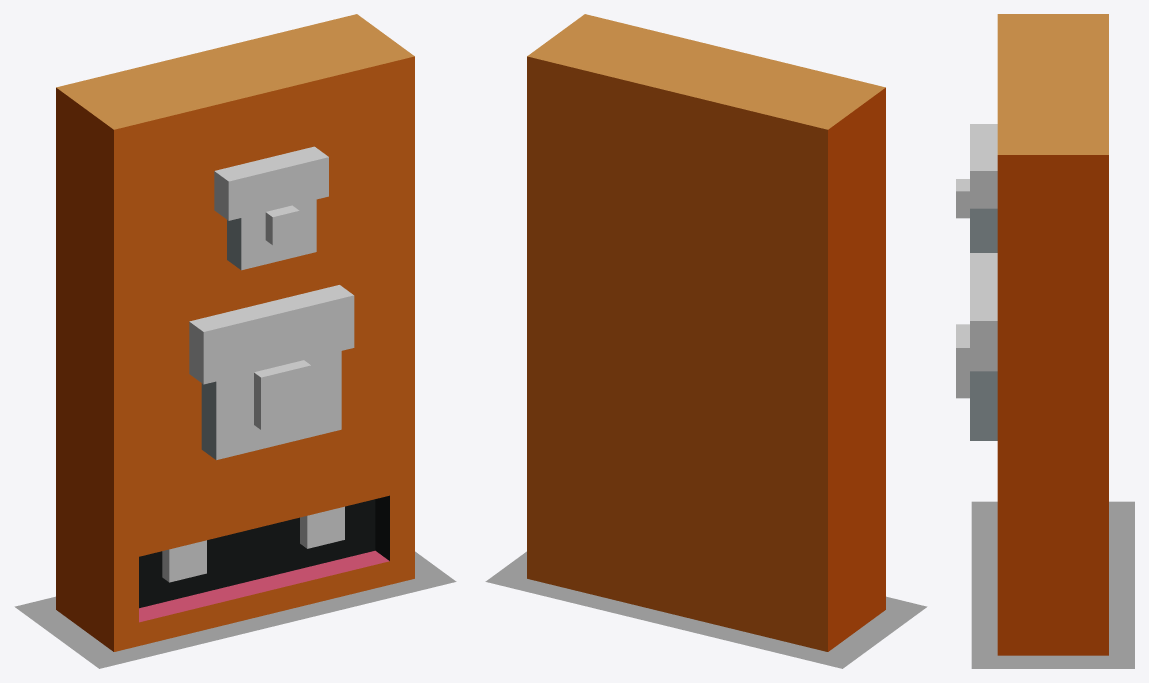
File: EN_TallBit_Orange.fbx
The picture shows the model from 3 angles, left to right: view 1: azimuth 30°, elevation 25°; view 2: azimuth 150°, elevation 25°; view 3: azimuth 270°, elevation 25°; orthographic projection. The views are drawn at different scales.
Parts seen in each view (by area): view 1: Body, Eyebrow, Mouth, Eye, Shadow, Eyebrow_SM, Eye_SM, Pupil, Pupil_SM; view 2: Body, Shadow; view 3: Body, Shadow, Eyebrow, Eyebrow_SM, Eye, Eye_SM, Pupil, Pupil_SM.
Part boxes in pixels (x1,y1,x2,y2): Body: (56,14,414,651); Eyebrow: (189,285,354,384); Mouth: (139,550,389,645); Eye: (201,351,341,460); Shadow: (14,551,456,668); Eyebrow_SM: (214,146,328,220); Eye_SM: (227,199,316,270); Pupil: (254,360,311,429); Pupil_SM: (265,205,299,245); Body: (527,14,885,651); Shadow: (485,551,927,668); Body: (997,14,1108,655); Shadow: (971,501,1134,668); Eyebrow: (970,253,997,371); Eyebrow_SM: (970,124,997,208); Eye: (970,371,997,440); Eye_SM: (970,208,997,252); Pupil: (956,324,969,398); Pupil_SM: (956,179,969,218).
Size of the model in its own units: 71.23 by 100 by 32.18.
